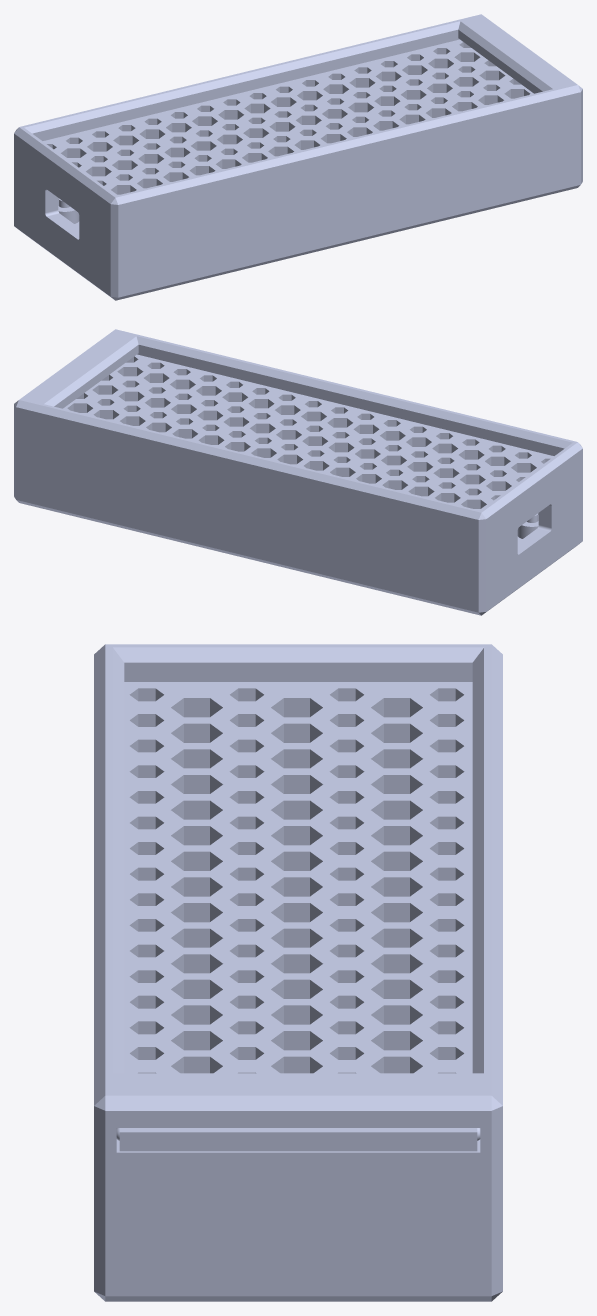
File: nvme_enclosure.glb
The picture shows the model from 3 angles, top to bottom: view 1: azimuth 30°, elevation 25°; view 2: azimuth 150°, elevation 25°; view 3: azimuth 270°, elevation 25°; orthographic projection. The views are drawn at different scales.
Parts seen in each view (by area): view 1: enclosure-1, lid-1; view 2: enclosure-1, lid-1; view 3: lid-1, enclosure-1.
Boxes of the visible parts, x1,y1,x2,y2 form: enclosure-1: [14, 14, 582, 300]; lid-1: [43, 39, 533, 195]; enclosure-1: [14, 329, 582, 615]; lid-1: [63, 354, 553, 510]; lid-1: [116, 682, 480, 1151]; enclosure-1: [94, 644, 502, 1301].
Size of the model in its own units: 0.072 by 0.015 by 0.027.
